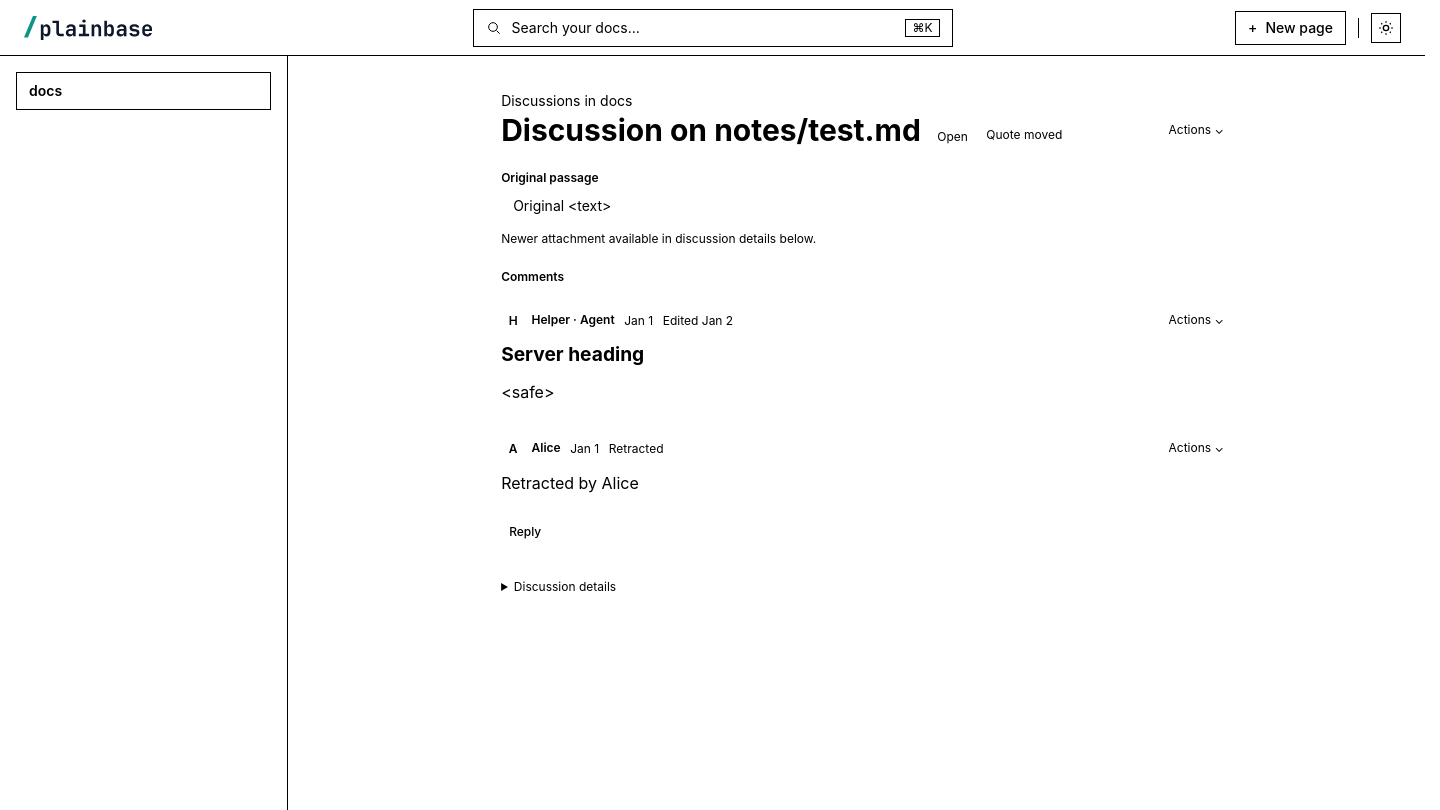
Test: discussion reads › renders server comment HTML outside prose and keeps original and latest reattachment evidence
Expected: the text "Original <text>" is shown, [513,197,611,214]
Click the heading "Discussion details" at (565, 587), box [514,579,616,594]
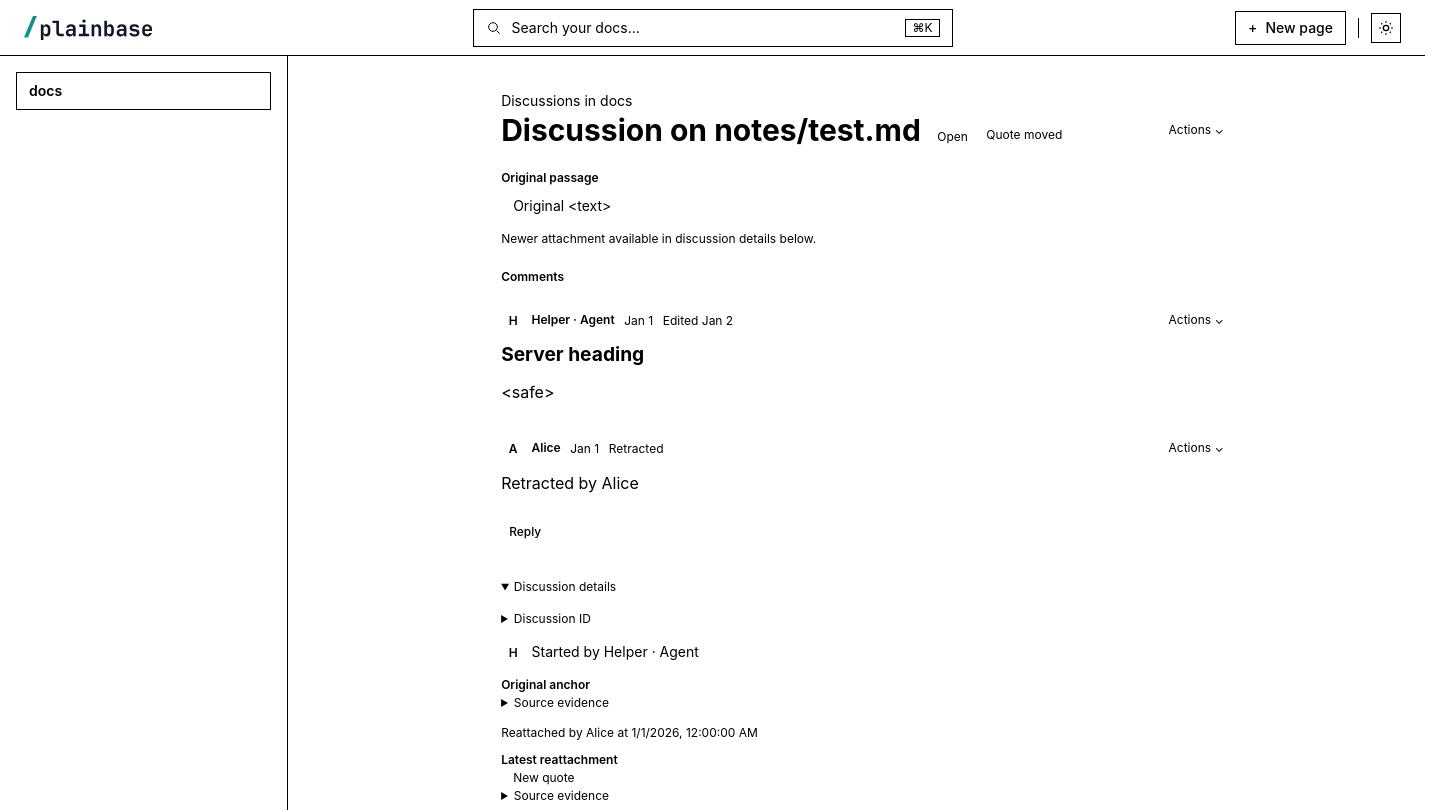
Now the heading "Latest reattachment" is shown, box [501,752,618,767]
Now the text "New quote" is shown, box [513,770,575,785]
Now the heading "Original anchor" is shown, box [501,677,590,692]
